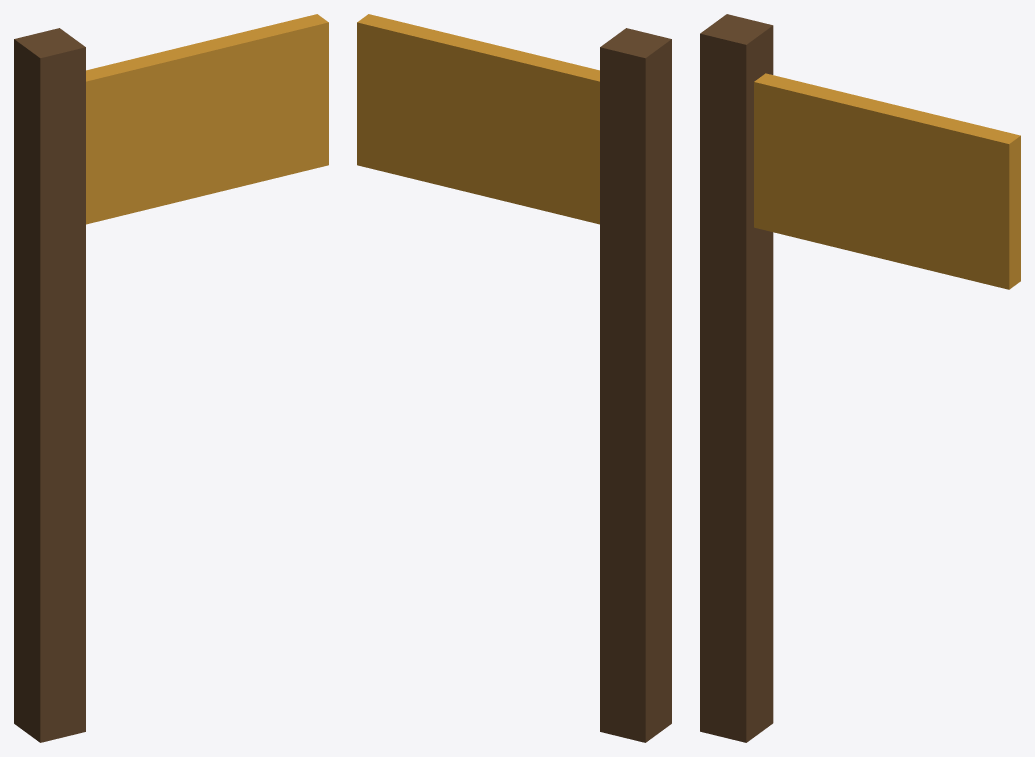
The model's file is field-marker.glb.
The picture shows the model from 3 angles, left to right: view 1: azimuth 30°, elevation 25°; view 2: azimuth 150°, elevation 25°; view 3: azimuth 330°, elevation 25°; orthographic projection.
Parts seen in each view (by area): view 1: post, flag; view 2: post, flag; view 3: post, flag.
Boxes of the visible parts, x1=… form: post: x1=14, y1=28, x2=85, y2=742; flag: x1=86, y1=14, x2=328, y2=224; post: x1=600, y1=28, x2=671, y2=742; flag: x1=357, y1=14, x2=599, y2=224; post: x1=700, y1=14, x2=773, y2=742; flag: x1=754, y1=73, x2=1020, y2=289.
Size of the model in its own units: 0.52 by 1.15 by 0.08.
